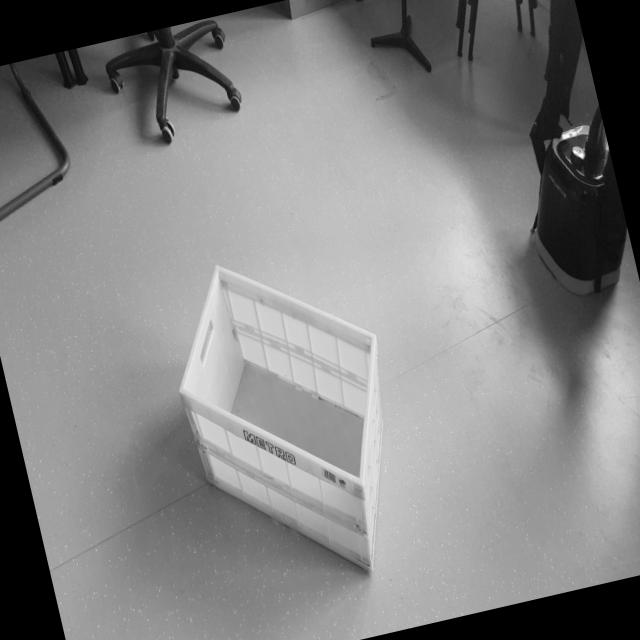box: (132, 208, 434, 626)
